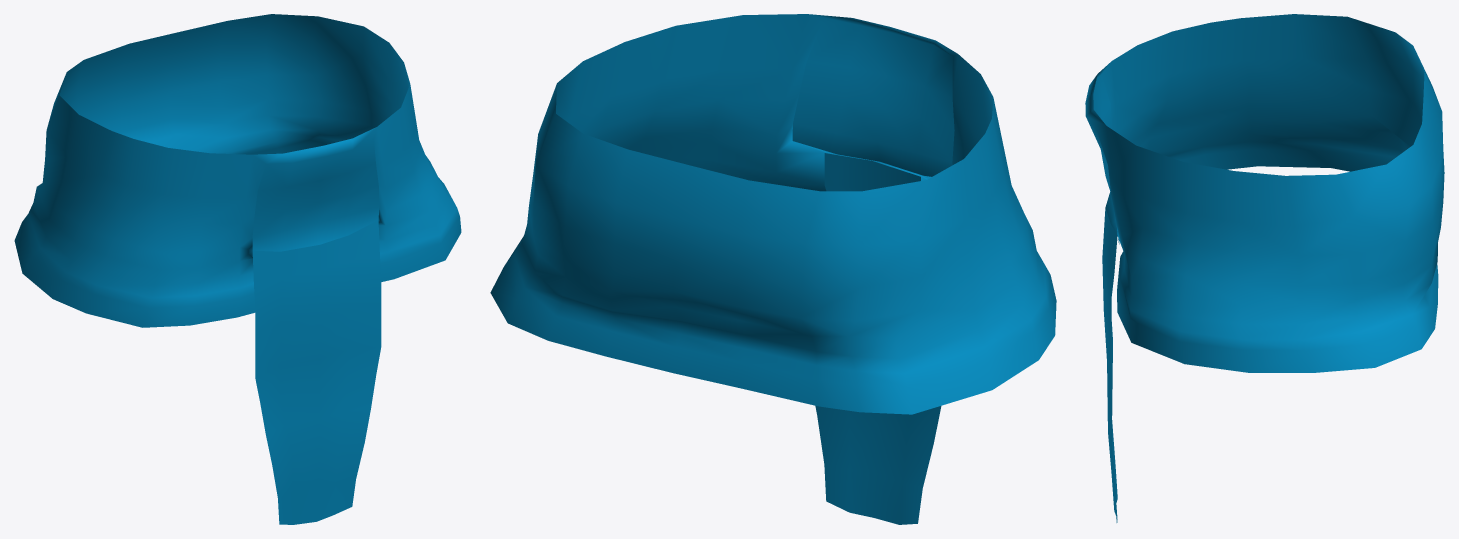
Rendered from Short_Shorts.fbx.
3 renders of one model, left to right at view 1: azimuth 30°, elevation 25°; view 2: azimuth 150°, elevation 25°; view 3: azimuth 270°, elevation 25°, orthographic. The views are drawn at different scales.
Parts seen in each view (by area): view 1: Pants; view 2: Pants; view 3: Pants.
Part boxes in pixels (x1=…): Pants: x1=14, y1=14, x2=461, y2=524; Pants: x1=490, y1=14, x2=1056, y2=524; Pants: x1=1085, y1=14, x2=1444, y2=522.
Size of the model in its own units: 2.04 by 1.92 by 1.5.
